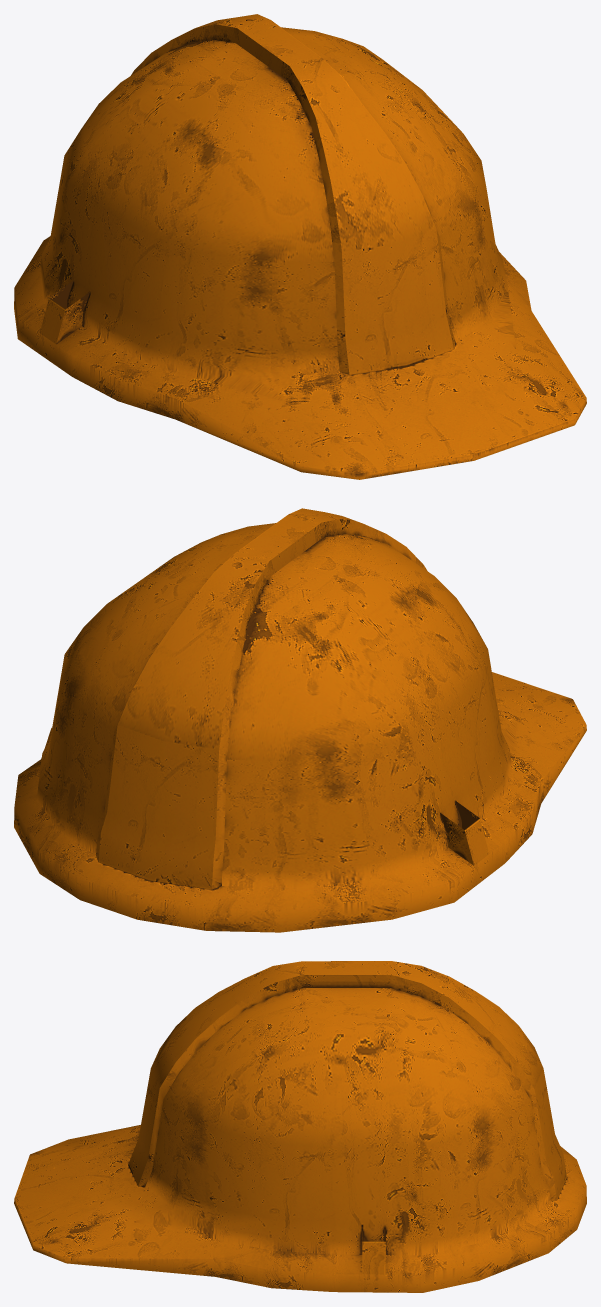
File: HardHat.fbx
3 views of the same model, one above another, from view 1: azimuth 30°, elevation 25°; view 2: azimuth 150°, elevation 25°; view 3: azimuth 270°, elevation 25° (orthographic). The views are drawn at different scales.
Visible parts, largest first — view 1: pSphere1; view 2: pSphere1; view 3: pSphere1.
Part boxes in pixels (bbox=[...]): pSphere1: bbox=[14, 14, 586, 479]; pSphere1: bbox=[14, 508, 586, 932]; pSphere1: bbox=[14, 961, 586, 1292].
Size of the model in its own units: 2.13 by 1.3 by 2.86.
1 material, 1 textured.
